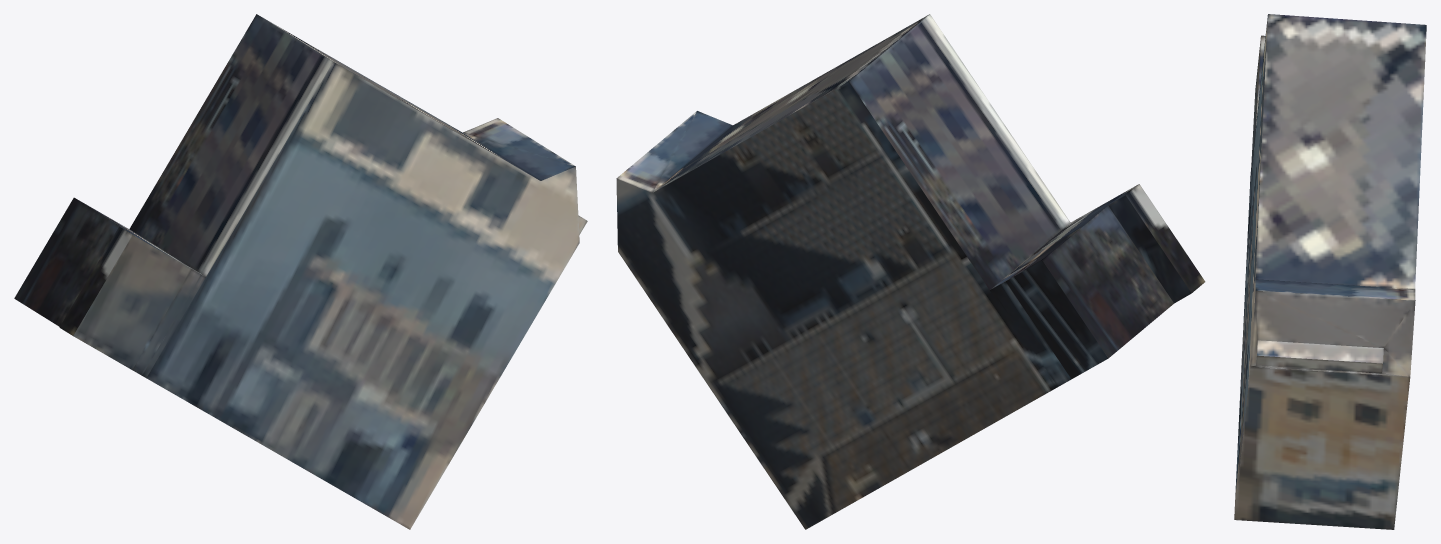
3 renders of one model, left to right at view 1: azimuth 30°, elevation 25°; view 2: azimuth 150°, elevation 25°; view 3: azimuth 270°, elevation 25°, orthographic.
Parts seen in each view (by area): view 1: BAG_0599100000671684 (×5); view 2: BAG_0599100000671684 (×5); view 3: BAG_0599100000671684 (×5).
Part boxes in pixels (left/top/right/bottom): BAG_0599100000671684 (×5): left=14, top=14, right=587, bottom=529; BAG_0599100000671684 (×5): left=616, top=14, right=1205, bottom=529; BAG_0599100000671684 (×5): left=1234, top=14, right=1426, bottom=529.
Size of the model in its own units: 24.19 by 21.49 by 7.72.
6 materials, 5 textured.
